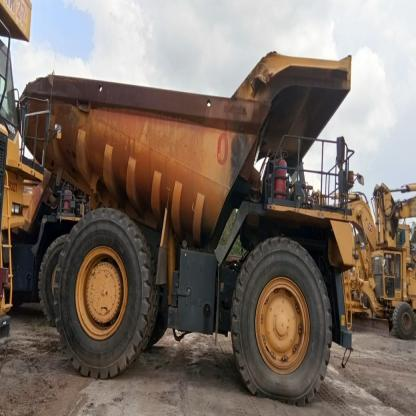dump_truck: (16, 32, 364, 408)
